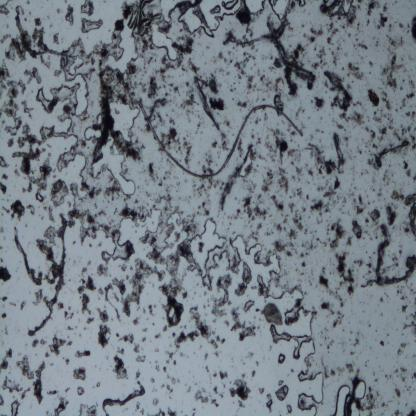Air bubble: (137, 198, 189, 262), (171, 0, 225, 60), (89, 138, 136, 197), (230, 233, 280, 287), (296, 340, 326, 415), (188, 218, 226, 275), (102, 20, 139, 78), (94, 219, 141, 261), (104, 96, 143, 141), (269, 326, 311, 358), (333, 385, 350, 415), (268, 0, 290, 21), (66, 54, 84, 76), (80, 18, 104, 34), (243, 1, 265, 16), (353, 379, 368, 399), (82, 126, 102, 140), (274, 383, 288, 403), (36, 87, 48, 110), (10, 398, 21, 414), (224, 0, 239, 10), (277, 353, 285, 365)
Background material: (94, 21, 144, 162), (0, 2, 62, 70), (250, 124, 304, 190), (103, 262, 165, 316), (13, 125, 53, 203), (270, 192, 314, 262), (0, 63, 32, 145), (160, 246, 190, 332), (365, 122, 416, 170), (121, 2, 166, 52), (177, 305, 225, 349), (305, 130, 346, 178), (320, 68, 354, 117), (160, 34, 196, 73), (224, 51, 257, 92), (20, 353, 45, 404), (193, 370, 226, 408), (334, 250, 362, 294), (76, 272, 98, 325), (318, 0, 356, 29), (231, 299, 255, 341), (240, 194, 269, 228), (166, 124, 192, 160), (191, 180, 215, 218), (121, 329, 146, 363), (72, 206, 100, 236), (389, 366, 411, 404), (380, 52, 402, 90), (356, 386, 384, 415), (319, 177, 343, 209), (82, 179, 118, 200), (260, 298, 284, 328), (214, 273, 230, 317), (141, 75, 167, 102), (0, 374, 27, 399), (232, 377, 252, 410), (47, 334, 73, 359), (320, 300, 344, 327), (305, 24, 339, 43), (397, 306, 416, 339), (309, 45, 335, 69), (46, 182, 69, 209), (402, 190, 416, 233), (157, 169, 176, 200), (327, 219, 346, 250), (97, 308, 111, 348), (2, 198, 27, 220), (308, 195, 332, 215), (159, 348, 176, 375), (112, 354, 129, 381), (346, 58, 364, 83), (61, 4, 78, 29), (329, 361, 355, 377), (349, 107, 367, 130), (120, 207, 145, 223), (25, 66, 43, 88), (200, 152, 216, 176), (352, 195, 368, 218), (366, 87, 381, 110), (318, 271, 333, 294), (210, 131, 228, 150), (400, 161, 416, 182), (382, 204, 397, 226), (378, 3, 389, 33), (79, 0, 97, 18), (0, 347, 14, 370), (0, 154, 8, 194), (54, 394, 70, 414), (350, 218, 364, 240), (380, 90, 394, 112), (386, 34, 404, 51), (369, 204, 382, 225), (74, 363, 88, 382), (0, 260, 12, 282), (78, 402, 100, 414), (235, 137, 246, 160), (59, 303, 73, 321), (144, 301, 156, 322), (390, 188, 405, 204), (146, 162, 158, 181), (163, 380, 180, 392), (128, 314, 142, 328), (220, 115, 233, 130), (31, 336, 47, 348), (367, 0, 377, 19), (395, 341, 406, 358), (410, 14, 416, 45), (273, 96, 283, 114), (196, 238, 206, 256), (74, 349, 91, 359), (312, 97, 324, 111), (50, 31, 62, 44), (265, 392, 273, 411), (355, 40, 368, 51), (76, 383, 86, 397), (34, 16, 45, 28), (404, 92, 416, 102), (236, 98, 248, 108), (345, 234, 354, 247), (154, 396, 162, 410), (168, 405, 179, 415), (0, 5, 10, 16), (354, 336, 361, 350), (0, 294, 10, 303), (381, 176, 392, 184), (247, 348, 254, 360), (380, 337, 387, 349), (18, 300, 27, 308), (150, 379, 161, 385), (251, 369, 257, 380), (154, 332, 161, 340), (407, 409, 416, 415), (0, 312, 7, 318), (204, 357, 209, 362), (260, 390, 266, 393)
Cellulose filter fibre: (31, 214, 70, 332), (268, 21, 314, 84), (374, 222, 416, 291), (228, 14, 291, 46), (12, 226, 44, 286), (192, 75, 221, 129), (101, 382, 146, 415)
Microfibre: (138, 101, 304, 178)
